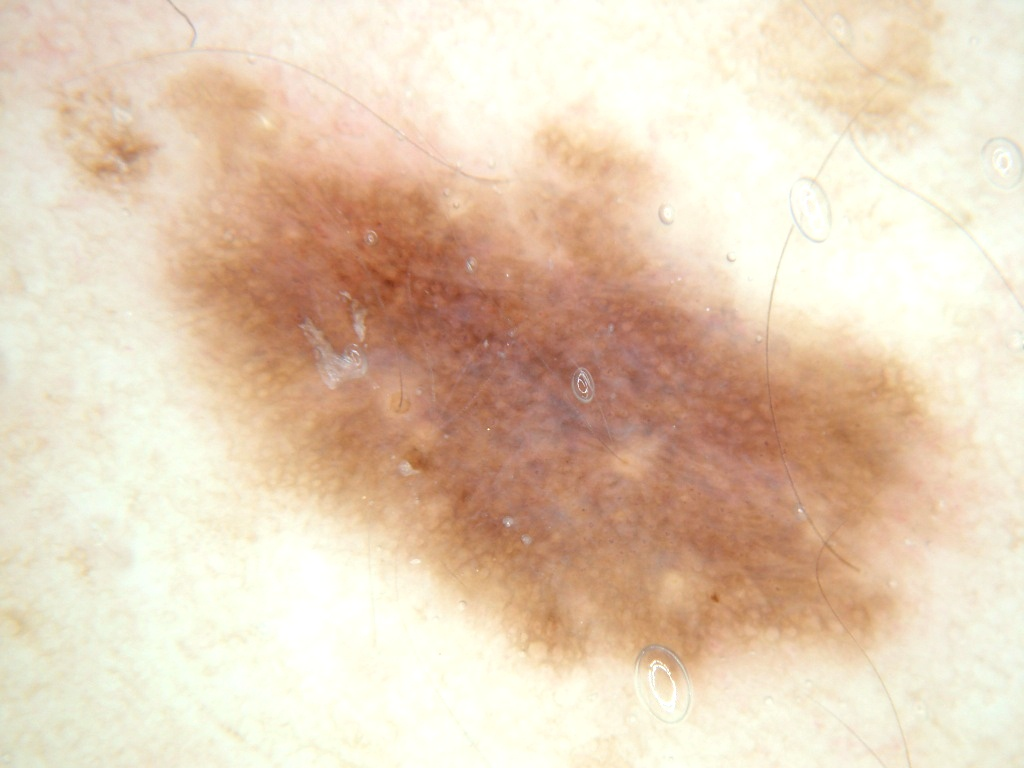Detected Lesion: (57, 55, 944, 689)
